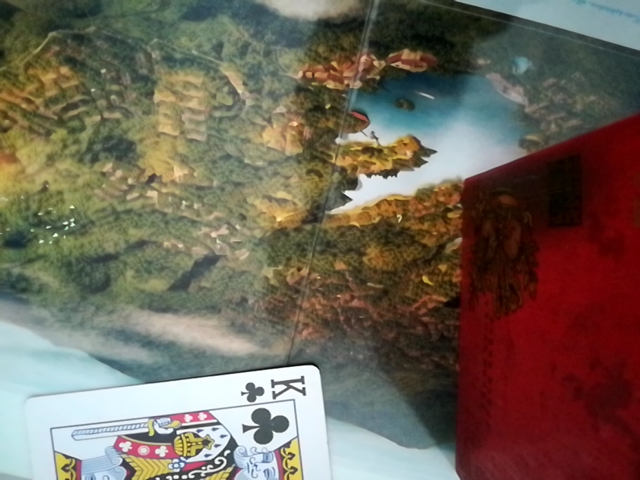mh k: (1, 366, 342, 478)
